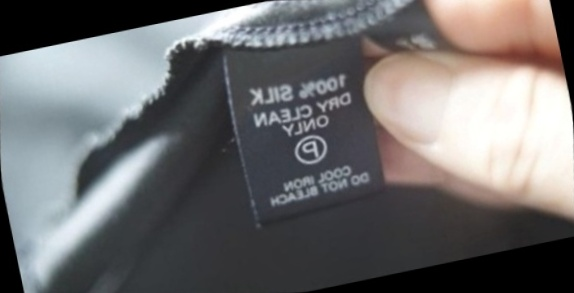dry_clean_any_solvent_except_trichloroethylene: (283, 124, 336, 174)
